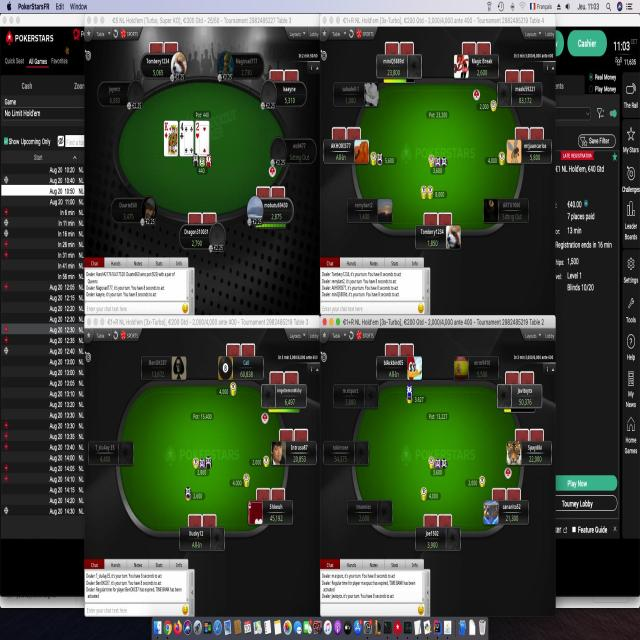2H: (194, 120, 201, 139)
4C: (180, 124, 185, 140)
KD: (163, 120, 169, 140)
